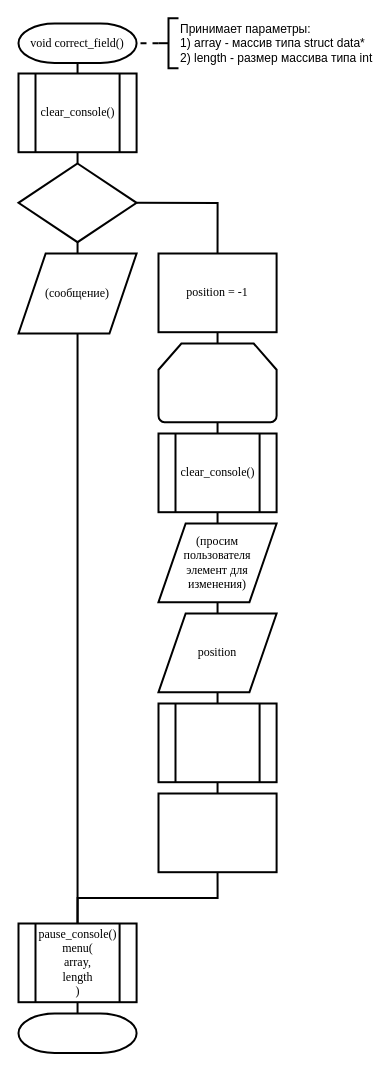
This 389x1071 diagram has some shape labels left out. Each missing label, with the centre of its shape:
"correct_field _menu( array, position )" belongs at (217,742).
"length <= 0" belongs at (77,202).
"position < 0 || position > length" belongs at (217,382).
"print_head_table(); print_one_element( array, position )" belongs at (217,832).
"Конец" belongs at (77,1032).
